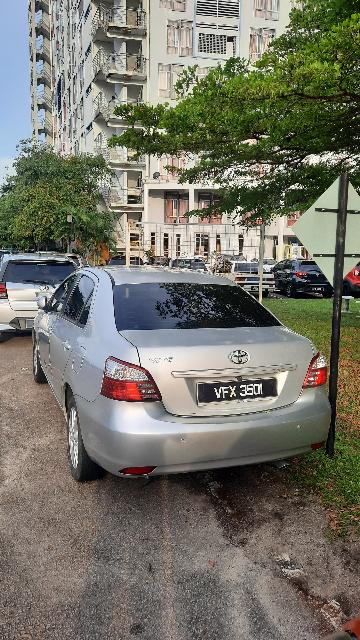License_Plate: (193, 373, 287, 407)
car: (28, 268, 339, 499)
